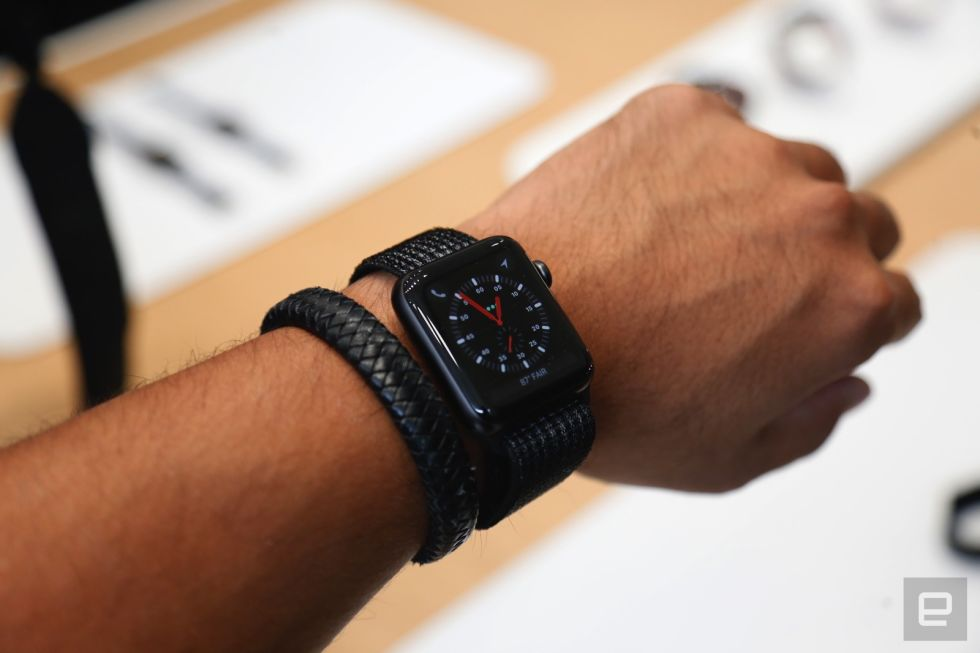clock: (449, 271, 552, 376)
